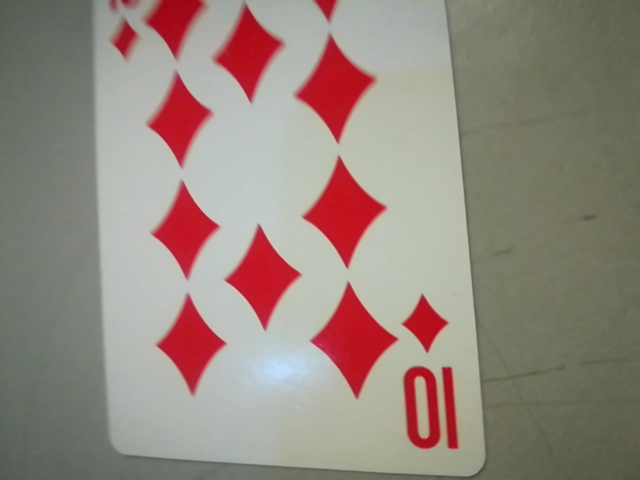fk 10: (387, 285, 472, 467)
